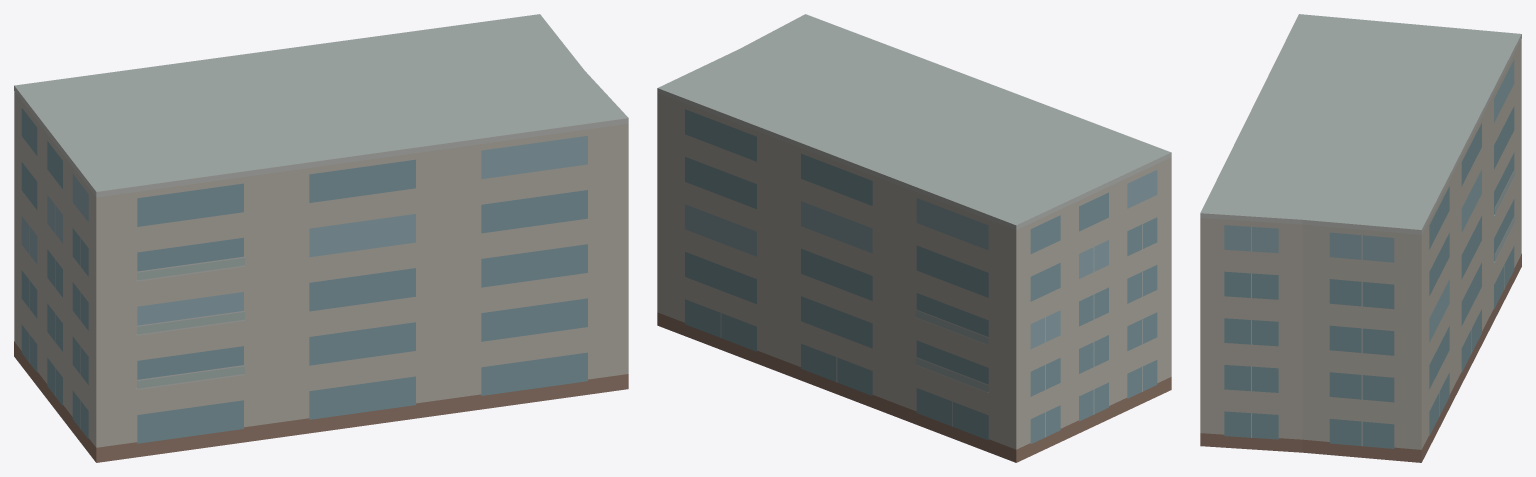
The model's file is survey-upis-32970219.glb.
The picture shows the model from 3 angles, left to right: view 1: azimuth 30°, elevation 25°; view 2: azimuth 150°, elevation 25°; view 3: azimuth 270°, elevation 25°; orthographic projection. The views are drawn at different scales.
Parts seen in each view (by area): view 1: survey-upis-32970219.tmp; view 2: survey-upis-32970219.tmp; view 3: survey-upis-32970219.tmp.
Part boxes in pixels (x1=…): survey-upis-32970219.tmp: x1=14, y1=14, x2=628, y2=462; survey-upis-32970219.tmp: x1=657, y1=14, x2=1171, y2=462; survey-upis-32970219.tmp: x1=1200, y1=14, x2=1521, y2=462.
Bounding box in the file's own units: 24.08 × 12.1 × 15.15.
